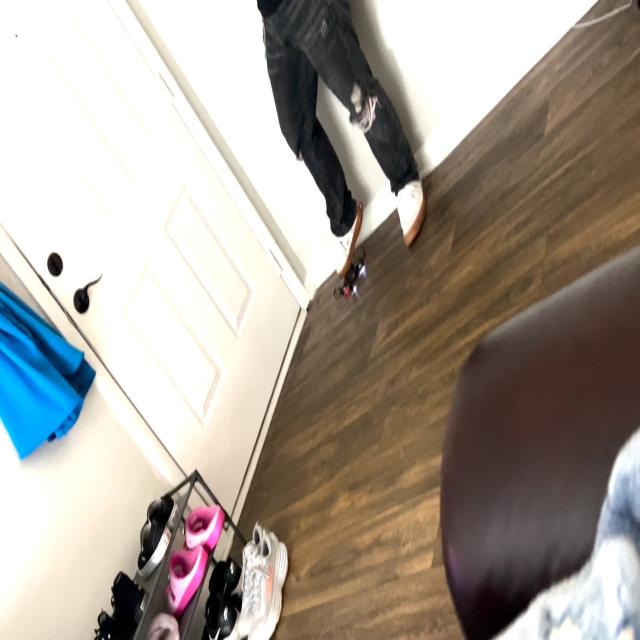drone: (319, 224, 377, 313)
